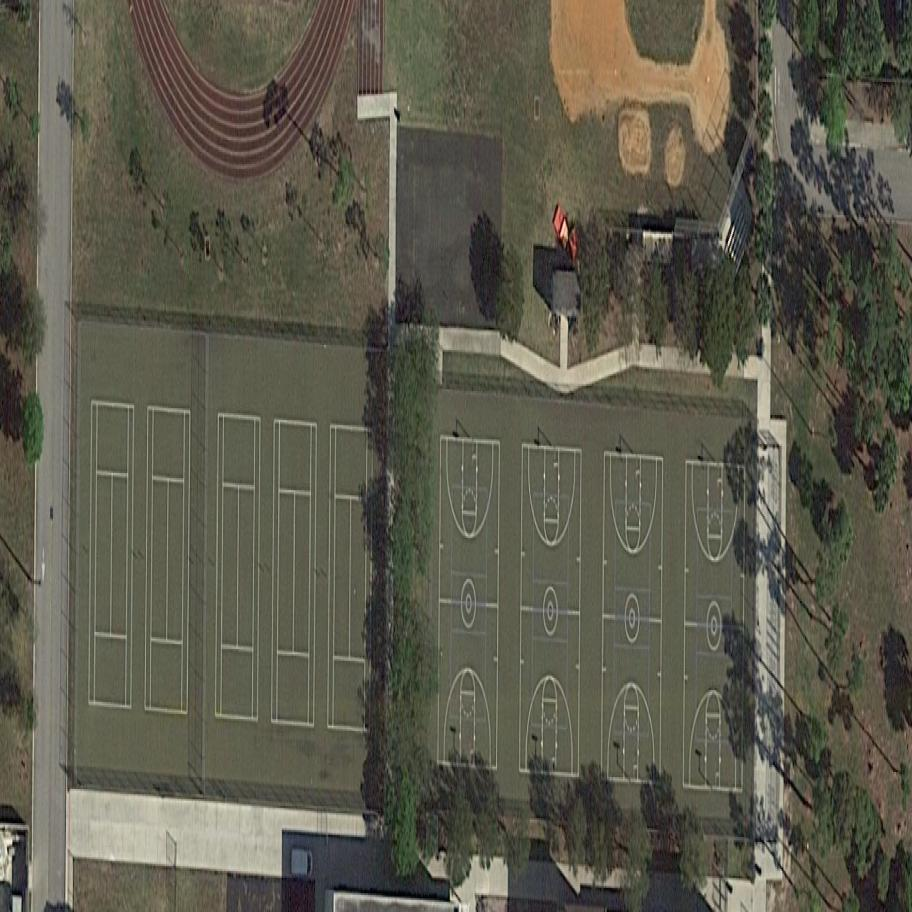large-vehicle: (290, 849, 313, 880)
